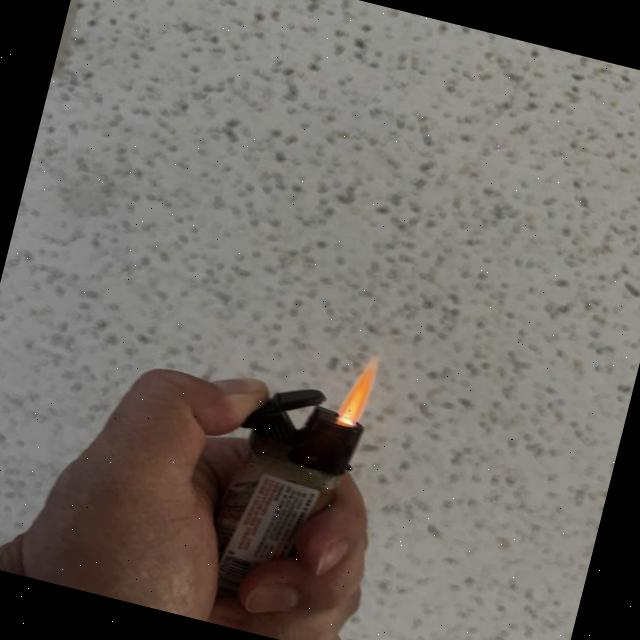fire: (336, 354, 379, 426)
